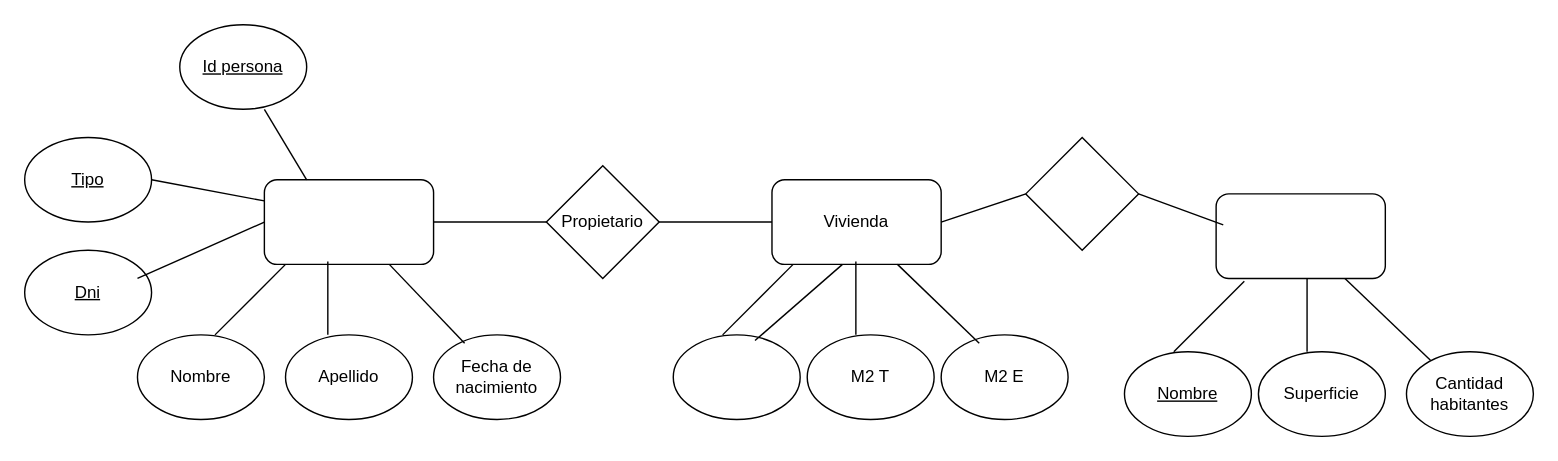
The diagram is 1558 pixels wide and 461 high, and some of its shapes have lost their labels. Here are the shapes that lost their labels. From the top down, the centre of each, then its label:
pixel 1081 193: Ubicada
pixel 348 221: Personas
pixel 1300 235: Municipios
pixel 736 376: Dirección
